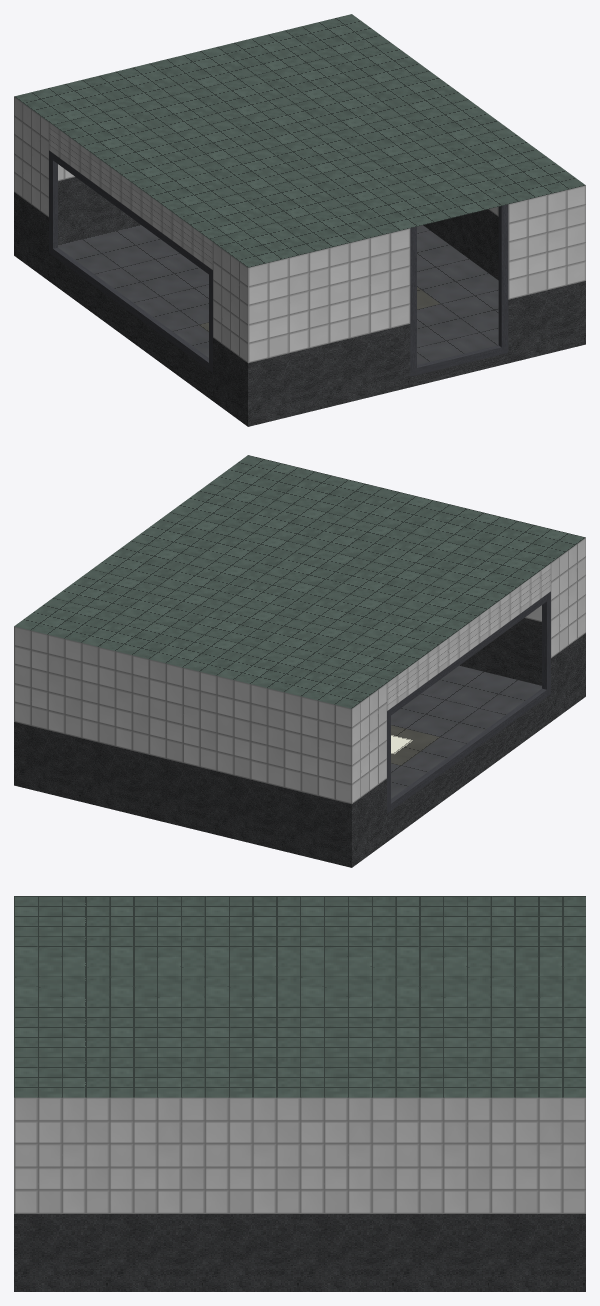
File: office.obj
3 renders of one model, top to bottom at view 1: azimuth 30°, elevation 25°; view 2: azimuth 150°, elevation 25°; view 3: azimuth 270°, elevation 25°, orthographic. The views are drawn at different scales.
Bounding box in the file's own units: 400 × 180 × 480.
17 materials, 16 textured.
